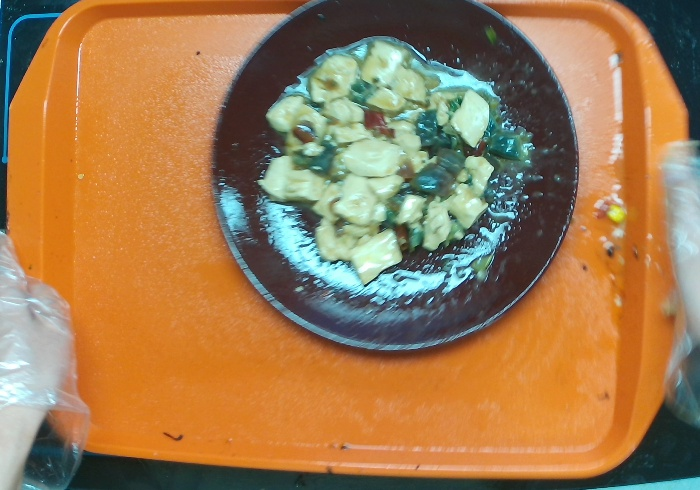HZYJPL-Ka_Fei_Yuan_Pan: (205, 1, 583, 366)
